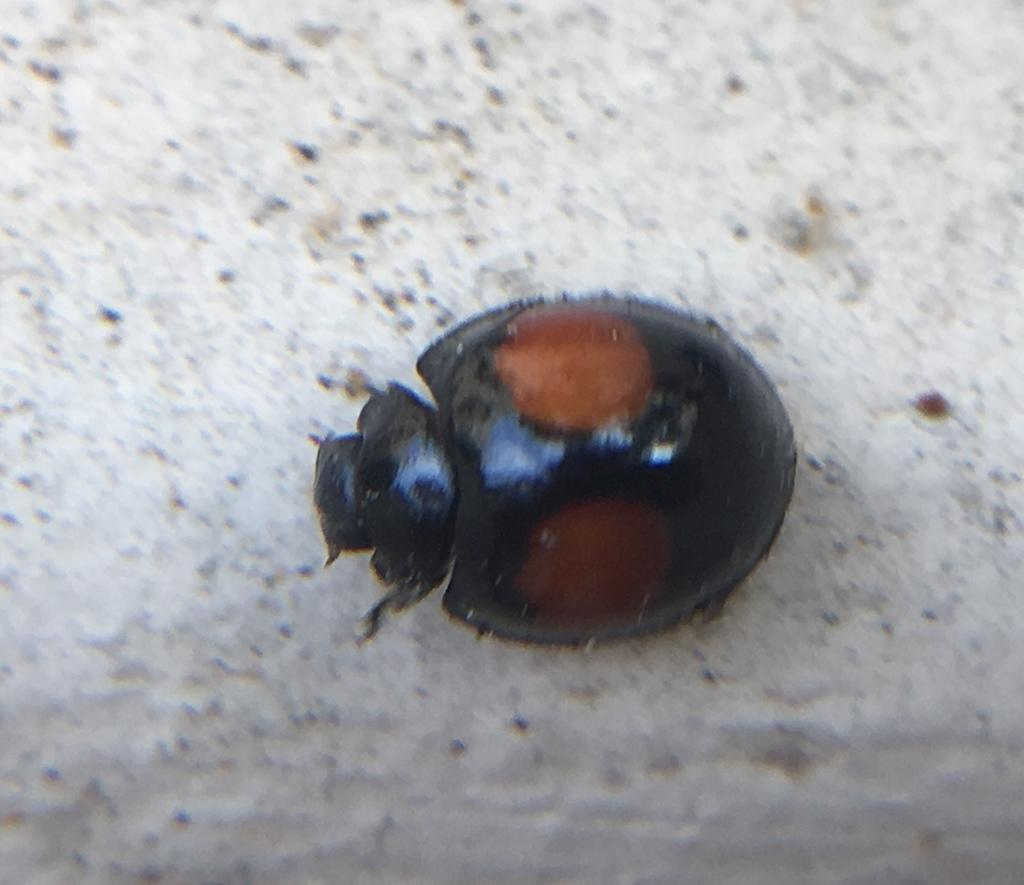ladybug: (306, 294, 804, 651)
